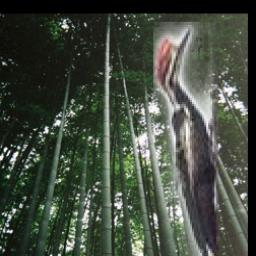Woodpecker: (153, 23, 218, 256)
